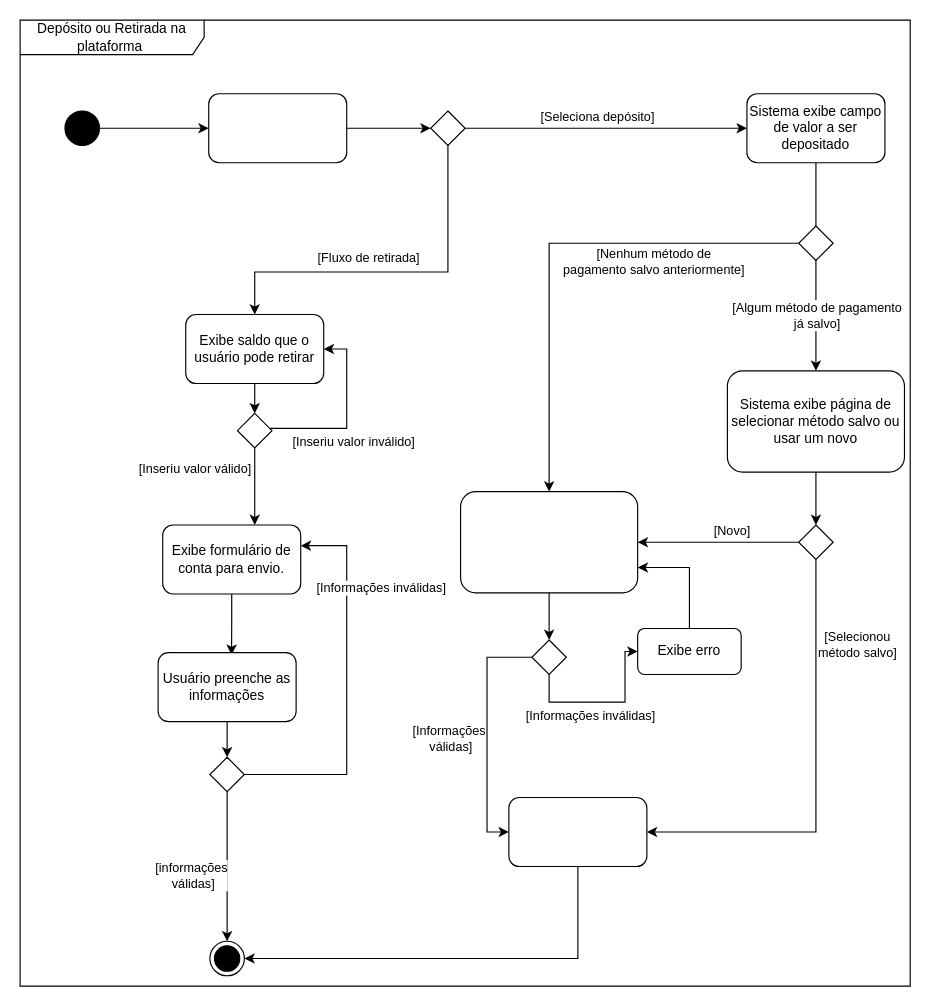
Some shapes in this 930 by 1006 pixel diagram are drawn without their labels. Here are the shapes that lost their labels. From the top down, the centre of each, then its label:
At (277,128): "Usuário acessa a página de depósito ou retirada da plataforma".
At (548,541): "Exibe formulário de método de pagamento".
At (577,831): "Exibe mensagem de sucesso e envia e-mail com informações da transação.".
